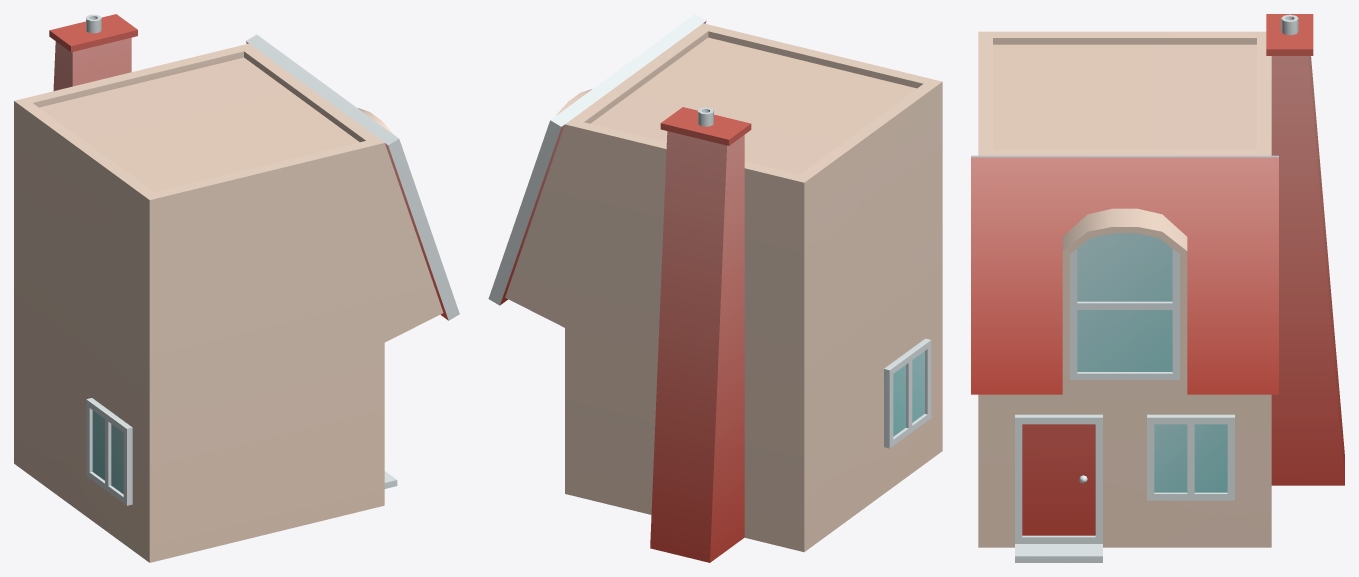
The model's file is Asset_HouseA.glb.
3 views of the same model, side by side, from view 1: azimuth 30°, elevation 25°; view 2: azimuth 150°, elevation 25°; view 3: azimuth 270°, elevation 25° (orthographic). The views are drawn at different scales.
Parts seen in each view (by area): view 1: Mesh.072; view 2: Mesh.072; view 3: Mesh.072.
Part boxes in pixels (left/top/right/bottom): Mesh.072: left=14, top=14, right=459, bottom=562; Mesh.072: left=488, top=14, right=942, bottom=562; Mesh.072: left=971, top=14, right=1344, bottom=562.
Size of what is drawn, in the model's own units: 6.68 by 8.54 by 6.4.
1 material, 1 textured.
